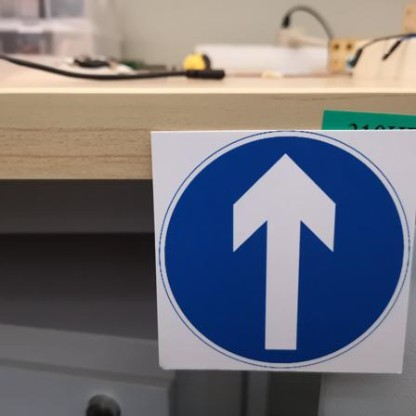forward: (147, 126, 411, 384)
